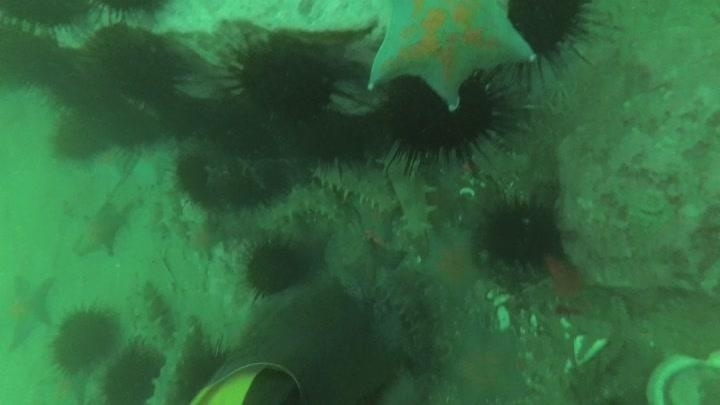echinus: (377, 73, 516, 173), (221, 35, 341, 126), (84, 21, 186, 105), (174, 139, 284, 212), (477, 194, 563, 273), (505, 1, 592, 63), (48, 304, 121, 375), (1, 18, 69, 91), (296, 107, 374, 170), (240, 236, 311, 299), (172, 340, 240, 404), (99, 341, 166, 405), (1, 1, 97, 39), (49, 107, 111, 163), (105, 98, 164, 151), (82, 1, 172, 30)
holothurian: (375, 266, 441, 371), (308, 158, 400, 214), (383, 159, 439, 245), (259, 181, 345, 229), (134, 279, 177, 350), (145, 345, 189, 405)
starfish: (365, 1, 537, 111), (439, 324, 534, 405), (333, 202, 408, 292), (417, 230, 482, 304), (1, 273, 57, 351), (70, 200, 130, 259), (182, 214, 224, 261), (33, 371, 88, 405)
